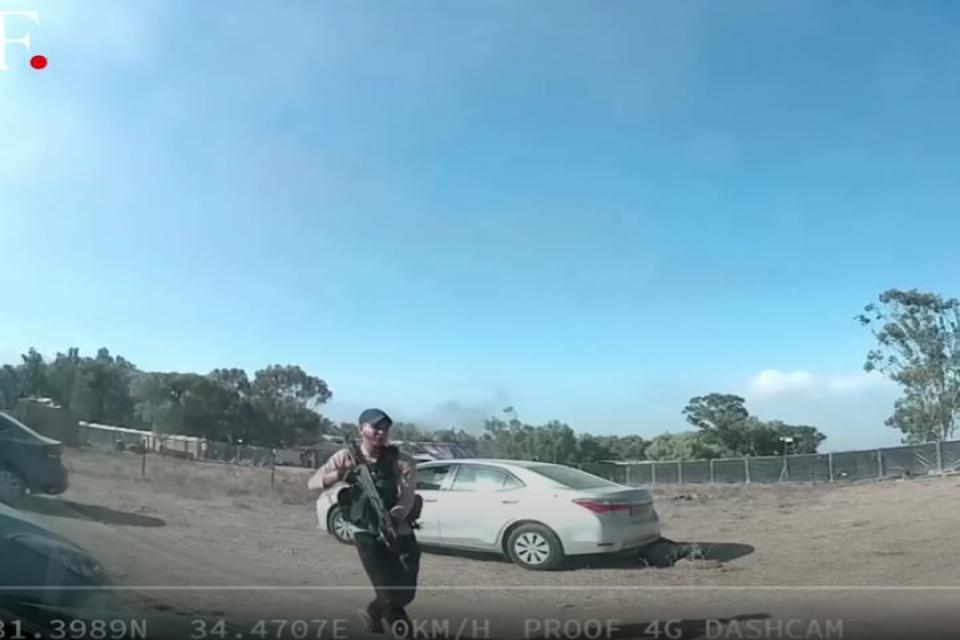non-violence: (303, 406, 435, 639)
weapon: (338, 436, 415, 576)
